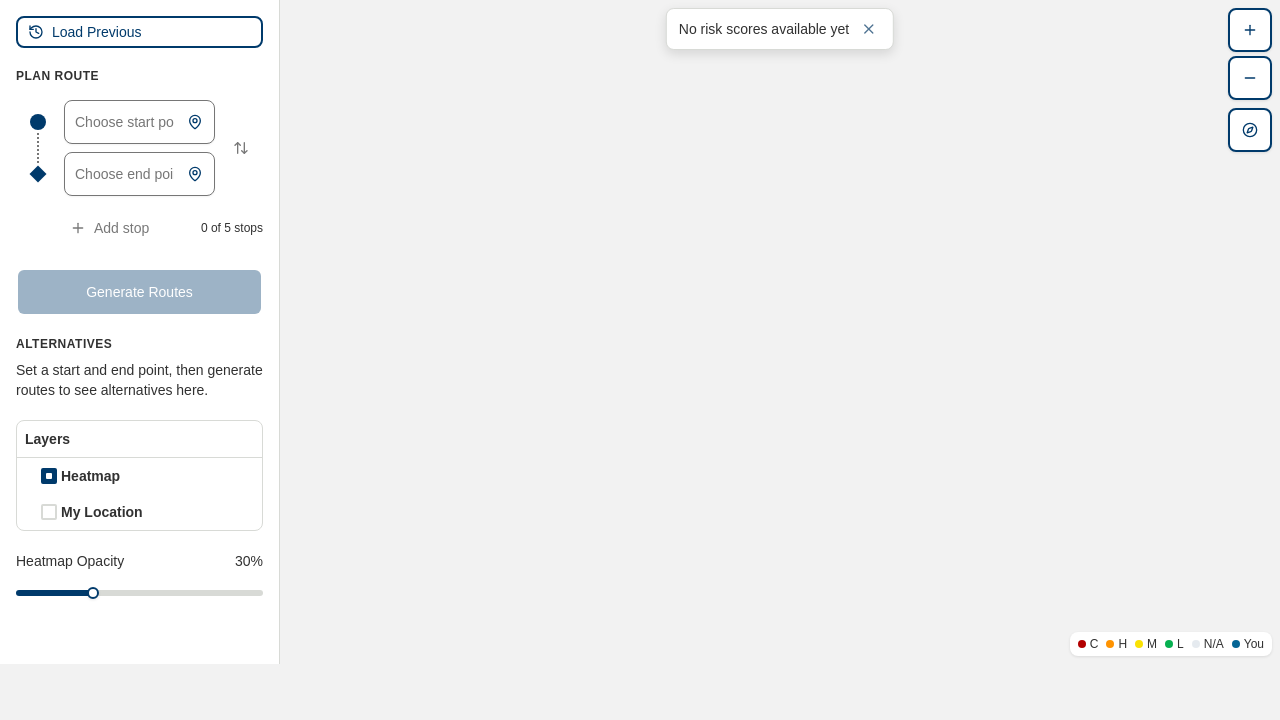
Test: PatrolPlannerPage › shows a dismissible no-data banner when no heatmap has been computed
Expected: the text "No risk scores available yet" is shown, [679,19,849,39]
What coordinates should you click on to do the following:
click the button named "dismiss"
I would click on:
 (869, 29)
Its box is [857,17,881,41].
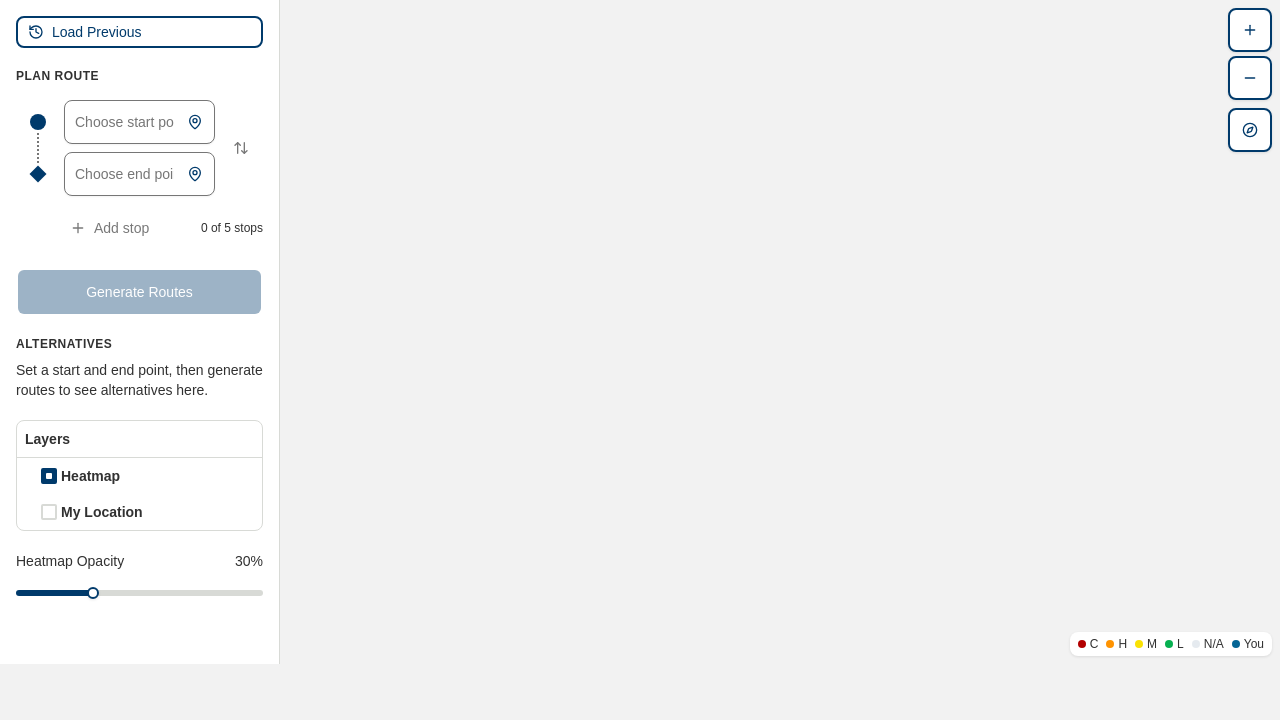
Result: the text "No risk scores available yet" is gone
